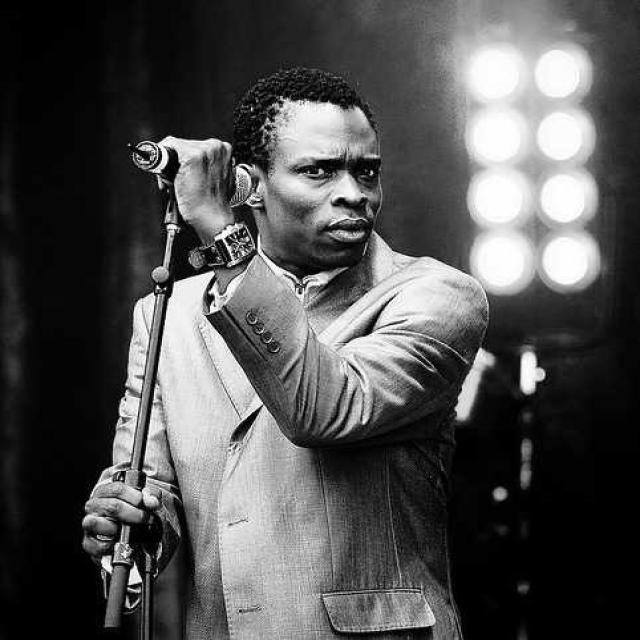microphone: (140, 130, 268, 217)
